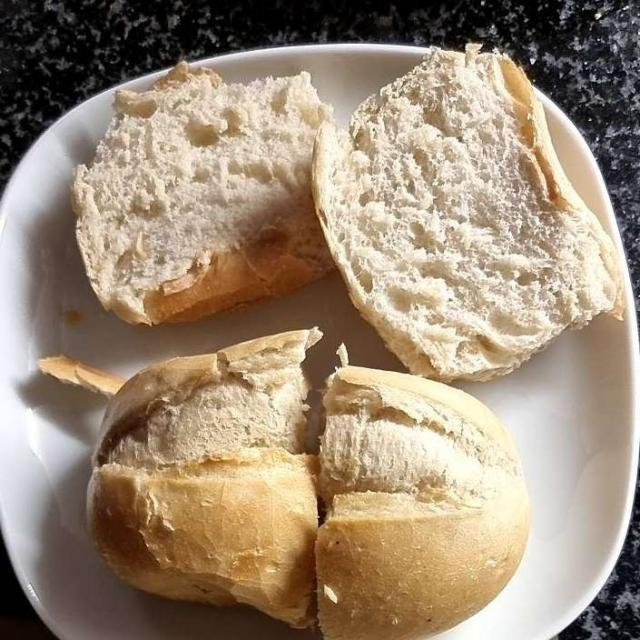bread: (80, 52, 610, 620)
